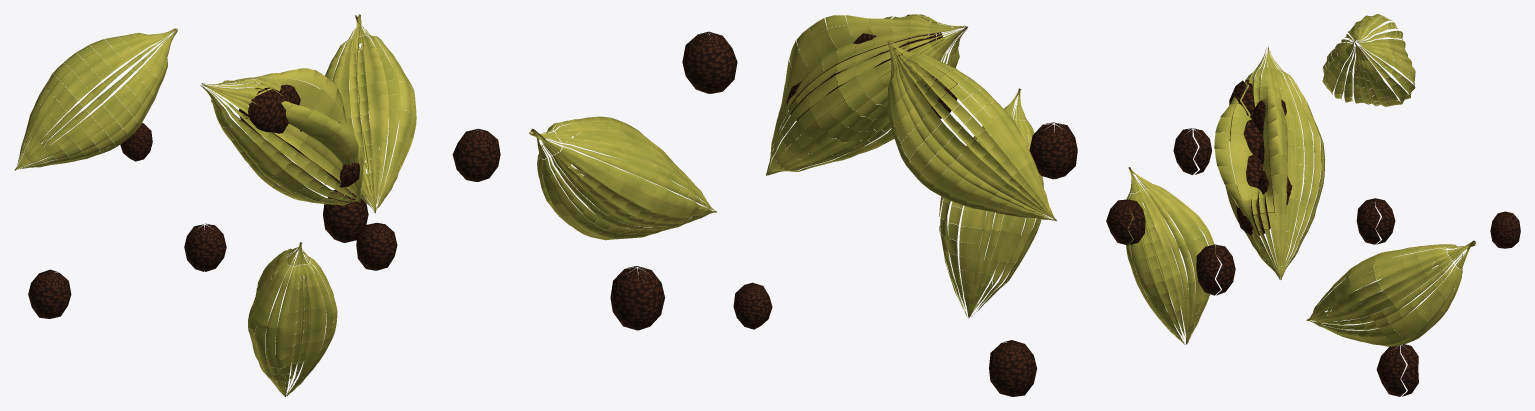
Rendered from cardamom-pods.glb.
3 views of the same model, side by side, from view 1: azimuth 30°, elevation 25°; view 2: azimuth 150°, elevation 25°; view 3: azimuth 270°, elevation 25° (orthographic). The views are drawn at different scales.
Visible parts, largest first — view 1: cardamom-pods-husk, cardamom-seeds; view 2: cardamom-pods-husk, cardamom-seeds; view 3: cardamom-pods-husk, cardamom-seeds.
Part boxes in pixels (box(x1,y1,x2,y2)): cardamom-pods-husk: box(15, 14, 416, 396); cardamom-seeds: box(28, 83, 500, 318); cardamom-pods-husk: box(529, 14, 1056, 318); cardamom-seeds: box(610, 14, 1077, 396); cardamom-pods-husk: box(1126, 14, 1476, 346); cardamom-seeds: box(1106, 79, 1520, 396).
Size of the model in its own units: 0.05 by 0.0362 by 0.0462.
2 materials, 2 textured.
